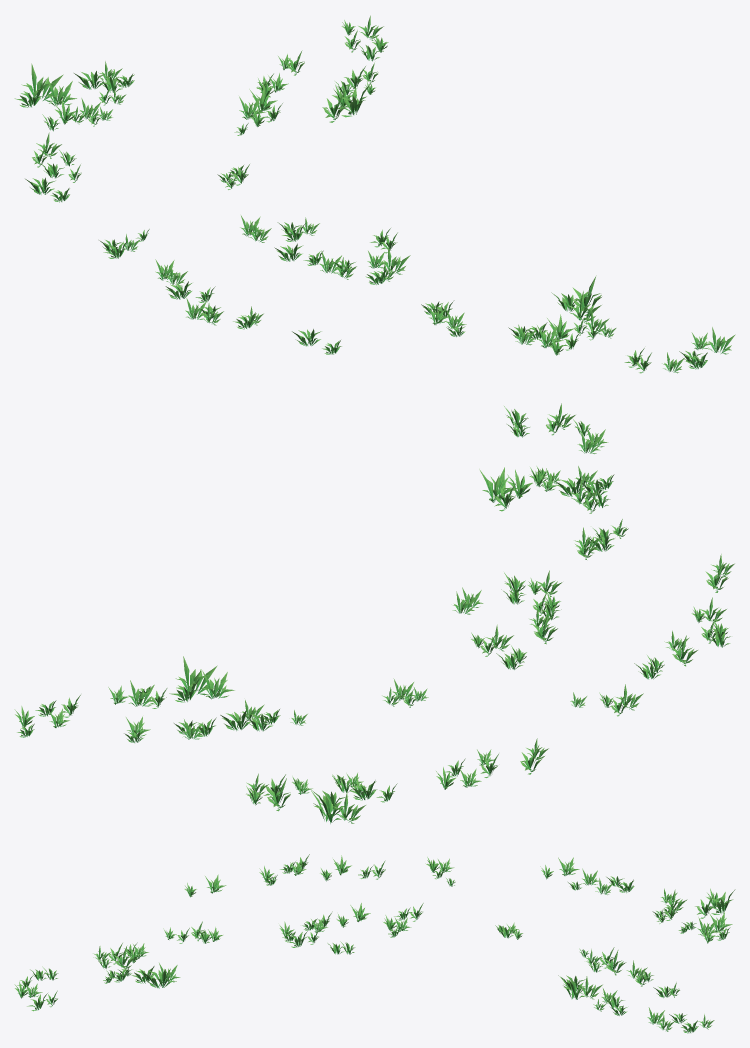
The model's file is area_08_10.fbx.
3 renders of one model, top to bottom at view 1: azimuth 30°, elevation 25°; view 2: azimuth 150°, elevation 25°; view 3: azimuth 270°, elevation 25°, orthographic. The views are drawn at different scales.
Visible parts, largest first — view 1: area_08_10; view 2: area_08_10; view 3: area_08_10.
Boxes of the visible parts, bbox=[...] form: area_08_10: bbox=[14, 15, 735, 373]; area_08_10: bbox=[14, 403, 734, 823]; area_08_10: bbox=[14, 854, 735, 1033].
Size of the model in its own units: 24.28 by 1.64 by 43.44.
